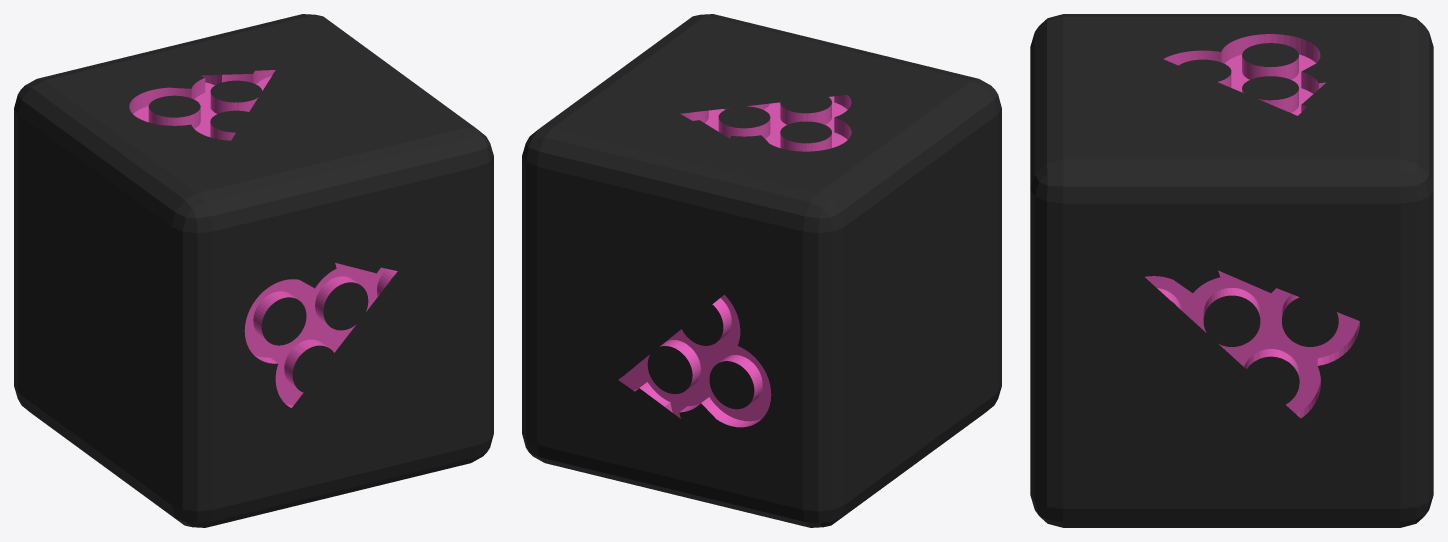
Rendered from grapes.fbx.
3 views of the same model, side by side, from view 1: azimuth 30°, elevation 25°; view 2: azimuth 150°, elevation 25°; view 3: azimuth 270°, elevation 25° (orthographic). The views are drawn at different scales.
Visible parts, largest first — view 1: Cube.015; view 2: Cube.015; view 3: Cube.015.
Boxes of the visible parts, <box> form: Cube.015: <box>14,14,493,527</box>; Cube.015: <box>522,14,1001,527</box>; Cube.015: <box>1030,14,1433,527</box>.
Bounding box in the file's own units: 200 × 200 × 200.
